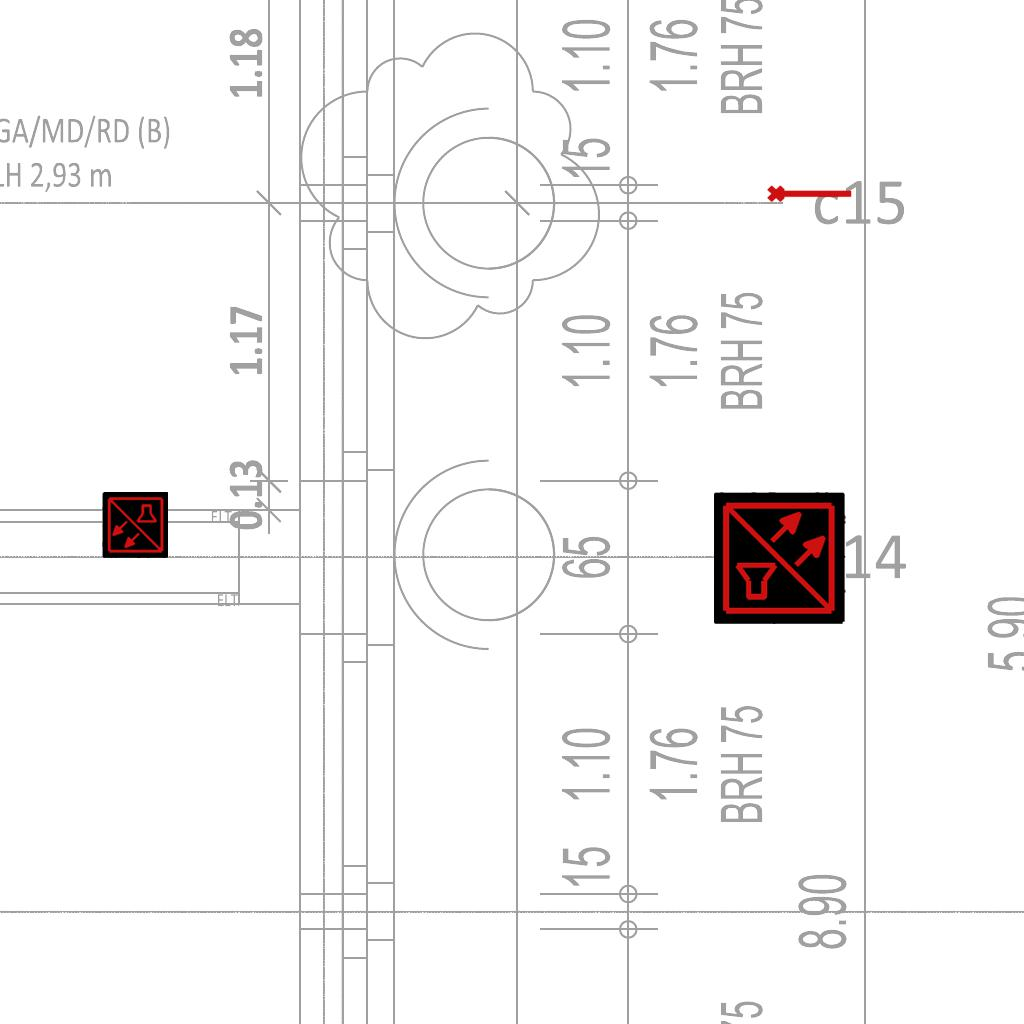ASR_Ansaugoeffnung: (766, 181, 854, 204)
OKW_Multisensormelder_(Kombination_optischer_Rauch-Kahlenmonoxid_Waerme-Melder): (714, 492, 846, 624), (102, 492, 168, 558)
